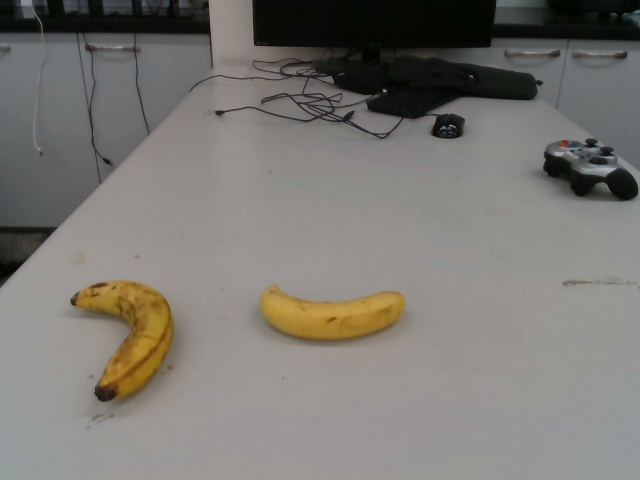banana: (71, 279, 176, 403), (258, 283, 406, 343)
